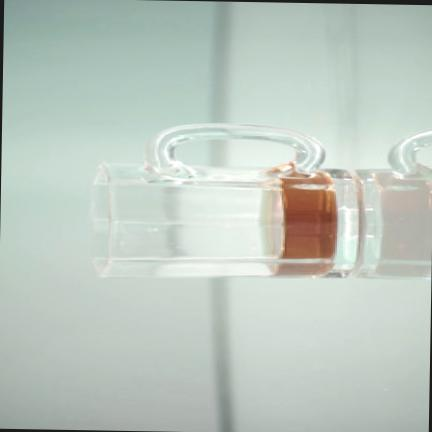container: (87, 164, 359, 278)
fluid: (274, 168, 335, 276)
fluid-surface: (260, 182, 283, 267)
